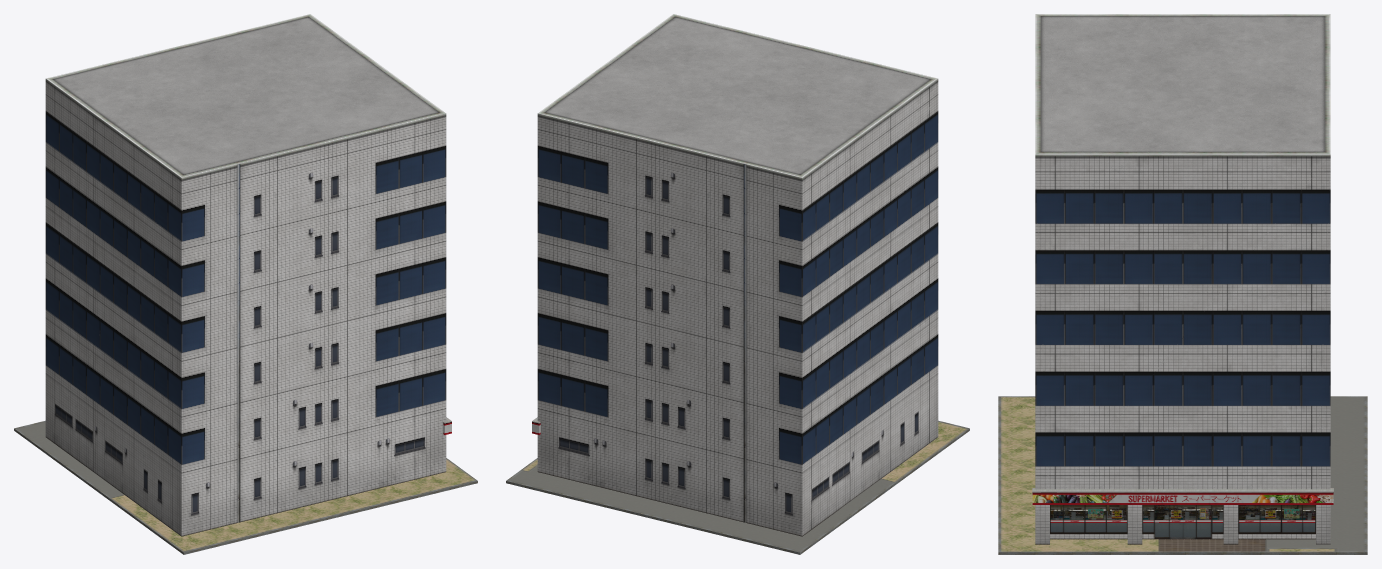
File: Supermarket.fbx
3 renders of one model, left to right at view 1: azimuth 30°, elevation 25°; view 2: azimuth 150°, elevation 25°; view 3: azimuth 270°, elevation 25°, orthographic. The views are drawn at different scales.
Parts seen in each view (by area): view 1: 100_Supermarket, 000_Site_Supermarket; view 2: 100_Supermarket, 000_Site_Supermarket; view 3: 101_Supermarket_1F, 100_Supermarket, 000_Site_Supermarket.
Boxes of the visible parts, x1,y1,x2,y2 form: 100_Supermarket: (45, 14, 451, 536); 000_Site_Supermarket: (14, 420, 477, 554); 100_Supermarket: (532, 14, 938, 536); 000_Site_Supermarket: (506, 420, 969, 554); 101_Supermarket_1F: (1035, 154, 1330, 544); 100_Supermarket: (1032, 14, 1333, 544); 000_Site_Supermarket: (998, 396, 1367, 554).
Size of the model in its own units: 20 by 23.45 by 20.
